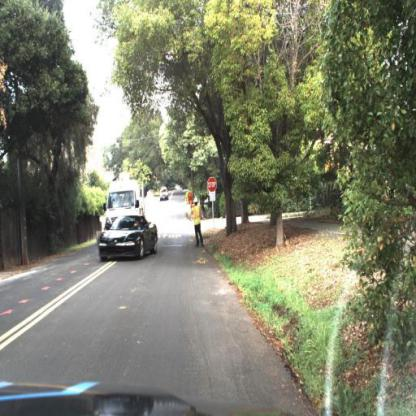car: (94, 216, 165, 267), (104, 178, 148, 218), (161, 183, 171, 203)
pedestrian: (189, 192, 204, 252)
